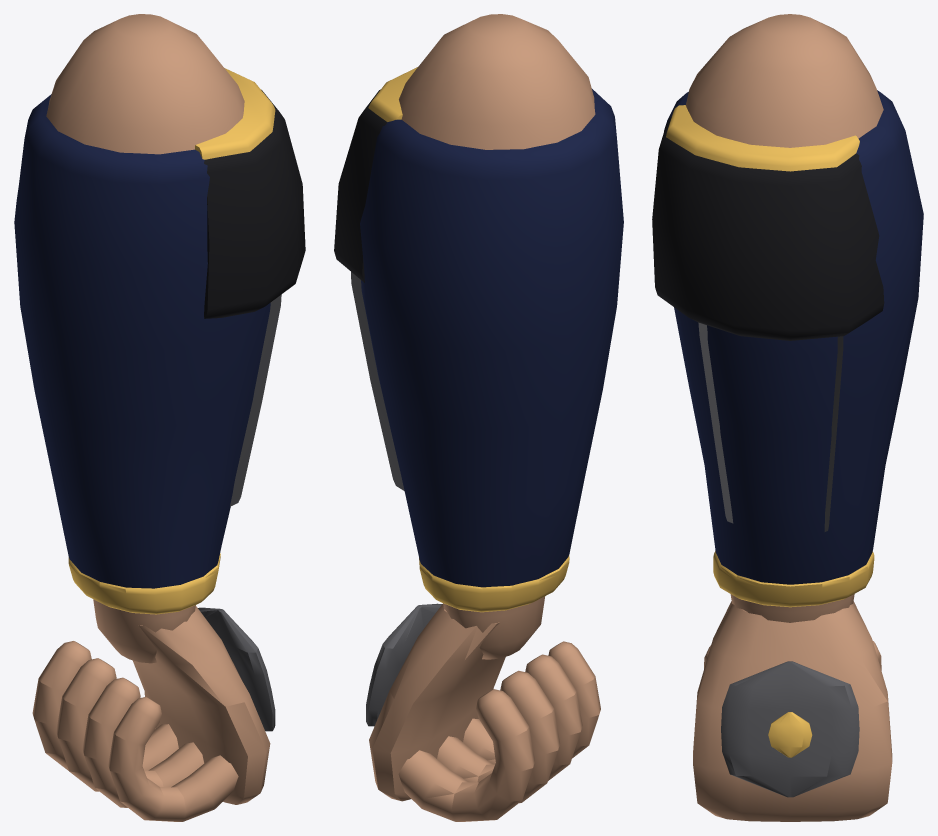
File: forearm_r.glb
3 renders of one model, left to right at view 1: azimuth 30°, elevation 25°; view 2: azimuth 150°, elevation 25°; view 3: azimuth 270°, elevation 25°, orthographic.
Parts seen in each view (by area): view 1: OUT; view 2: OUT; view 3: OUT.
Part boxes in pixels (left/top/right/bottom): OUT: left=14, top=14, right=305, bottom=821; OUT: left=334, top=14, right=623, bottom=821; OUT: left=652, top=14, right=923, bottom=821.
Bounding box in the file's own units: 0.1271 × 0.367 × 0.1176.
